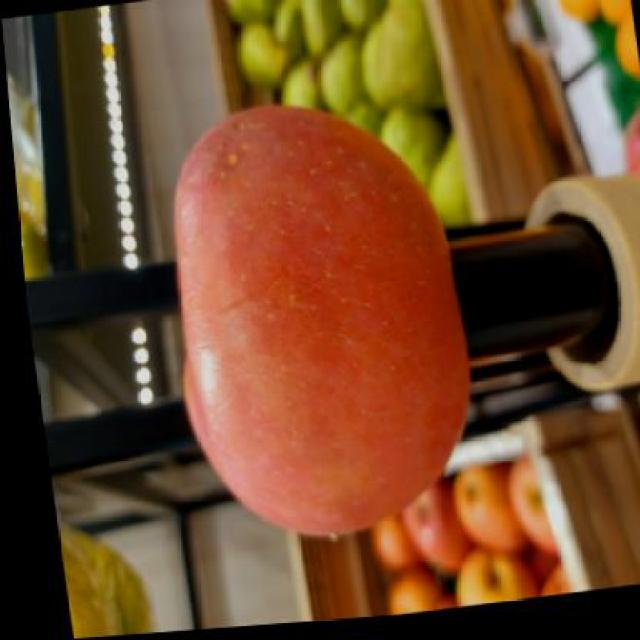Fresh Apple: (154, 102, 472, 554)
